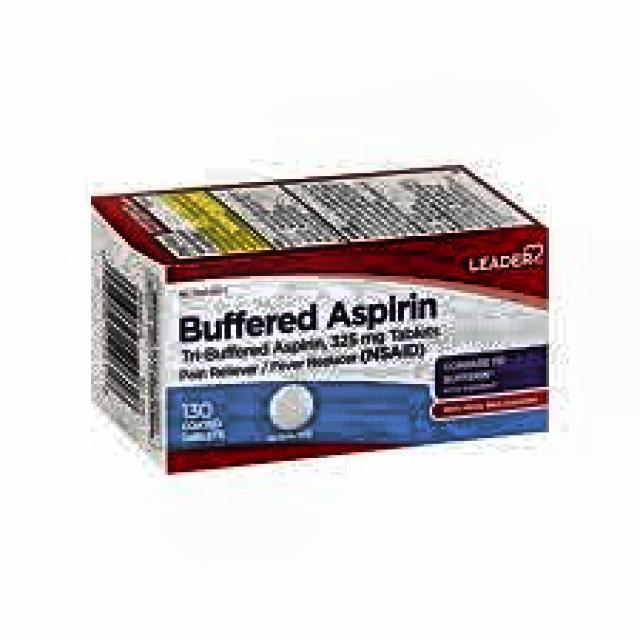Aspirin: (163, 272, 549, 415)
